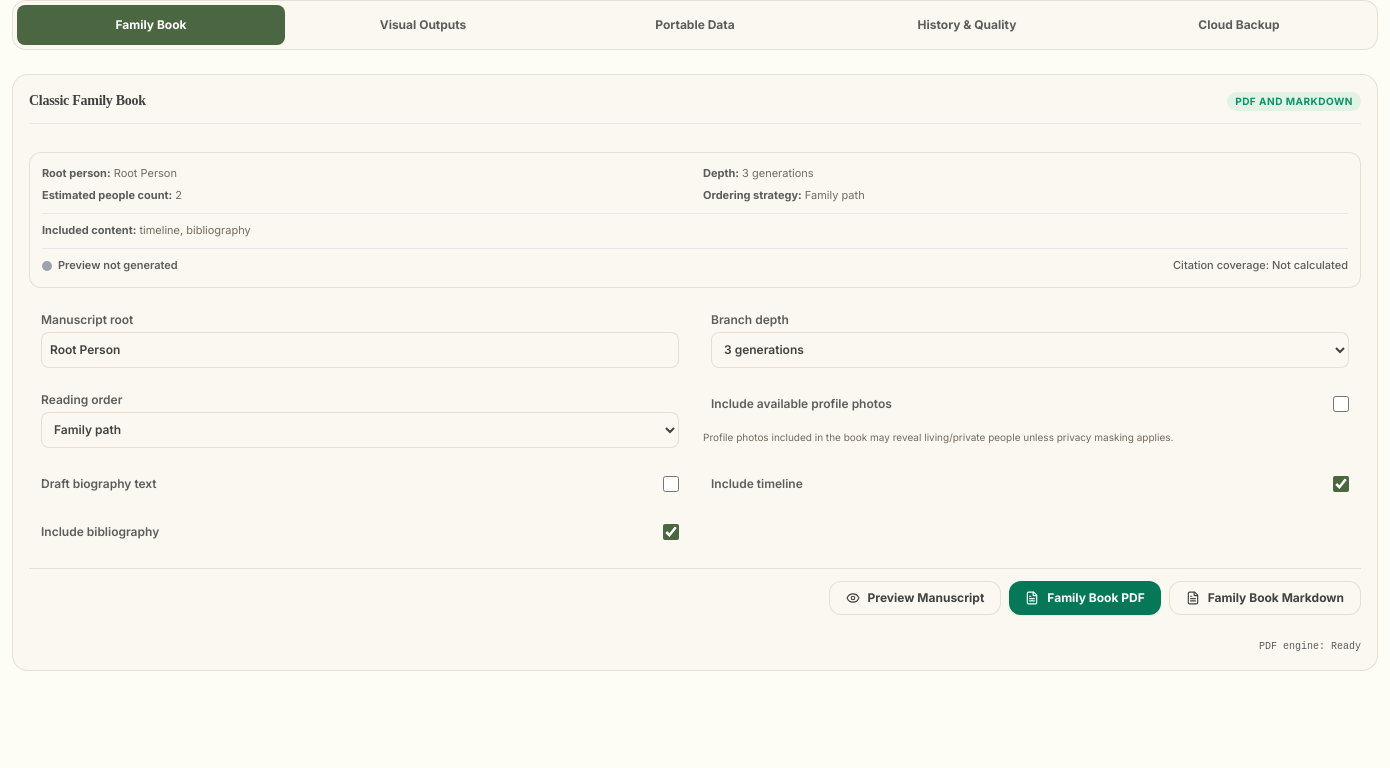
ExportCloudPanel manuscript preview › hides owner-only raw project exports from collaborators
Click the tab "Portable Data": click(695, 25) [561,5,829,45]
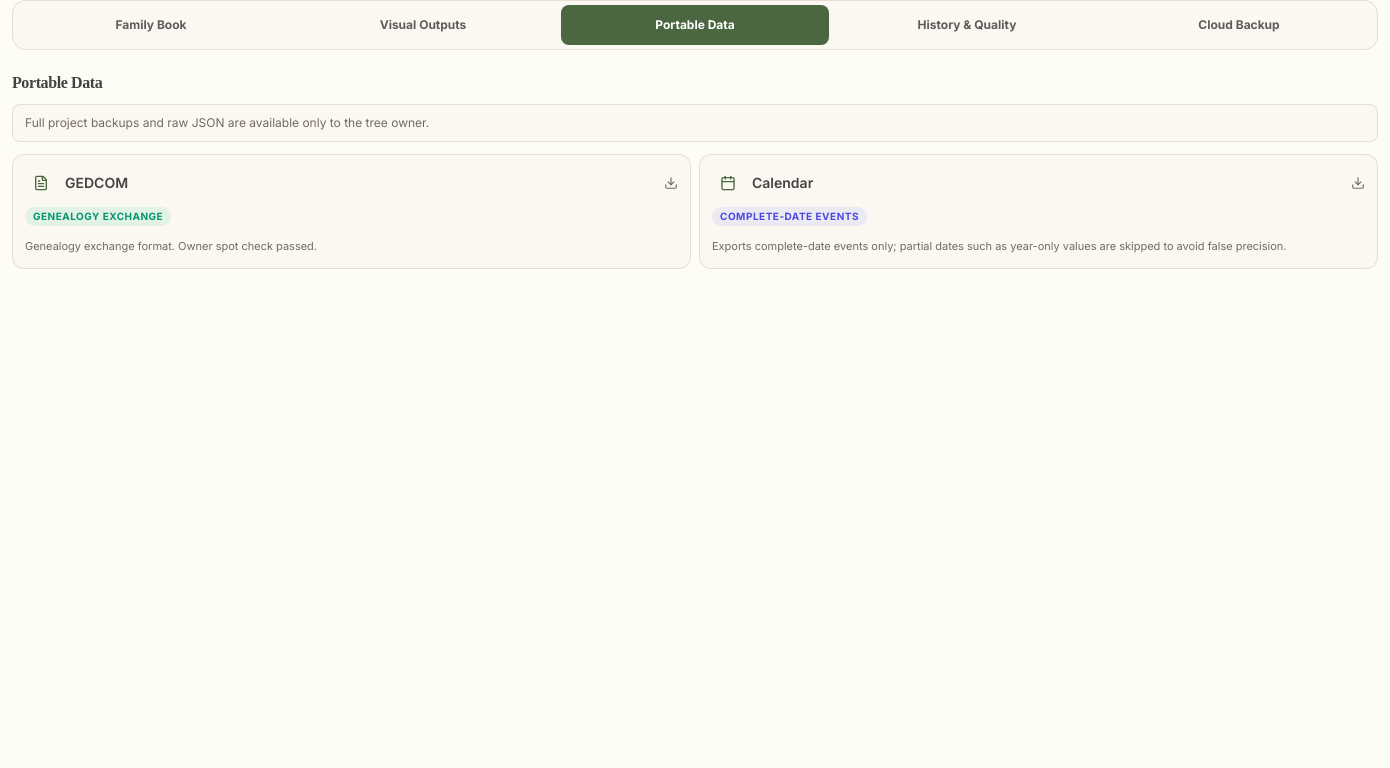
Now the message reads "Full project backups and raw JSON are available only to the tree owner.", box [25,115,429,130]
Now the button "GEDCOM" is enabled, box [12,154,691,269]
Now the button "Calendar" is enabled, box [699,154,1378,269]
